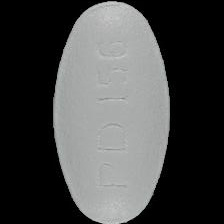55289-800: (0, 0, 224, 224)
